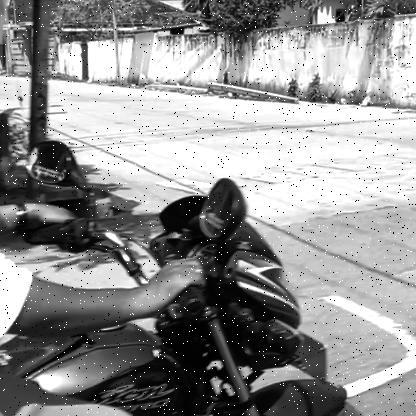motorcycle: (0, 118, 413, 416)
